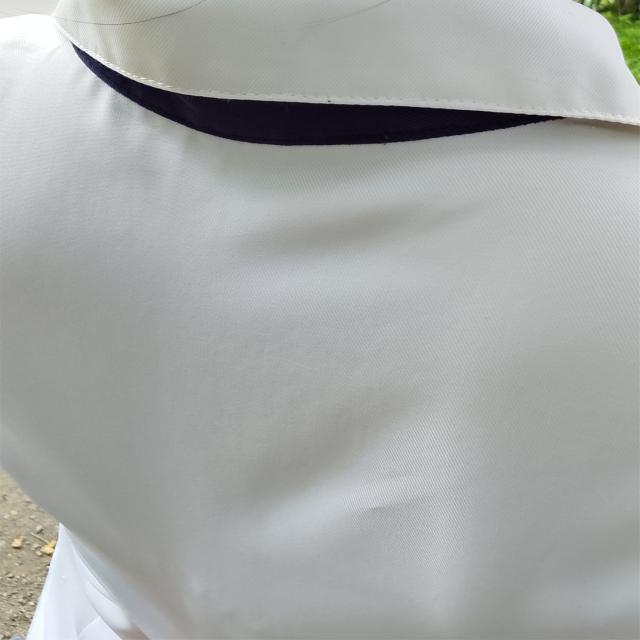education_female_uniform: (10, 6, 640, 518)
